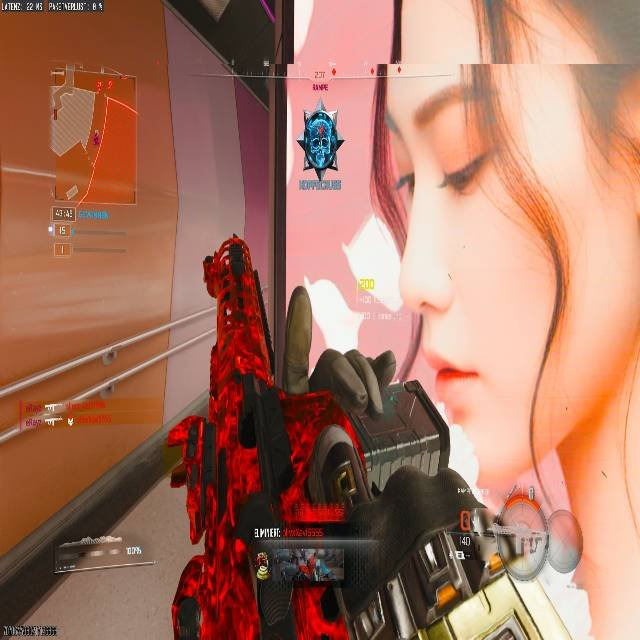player: (272, 244, 596, 640)
